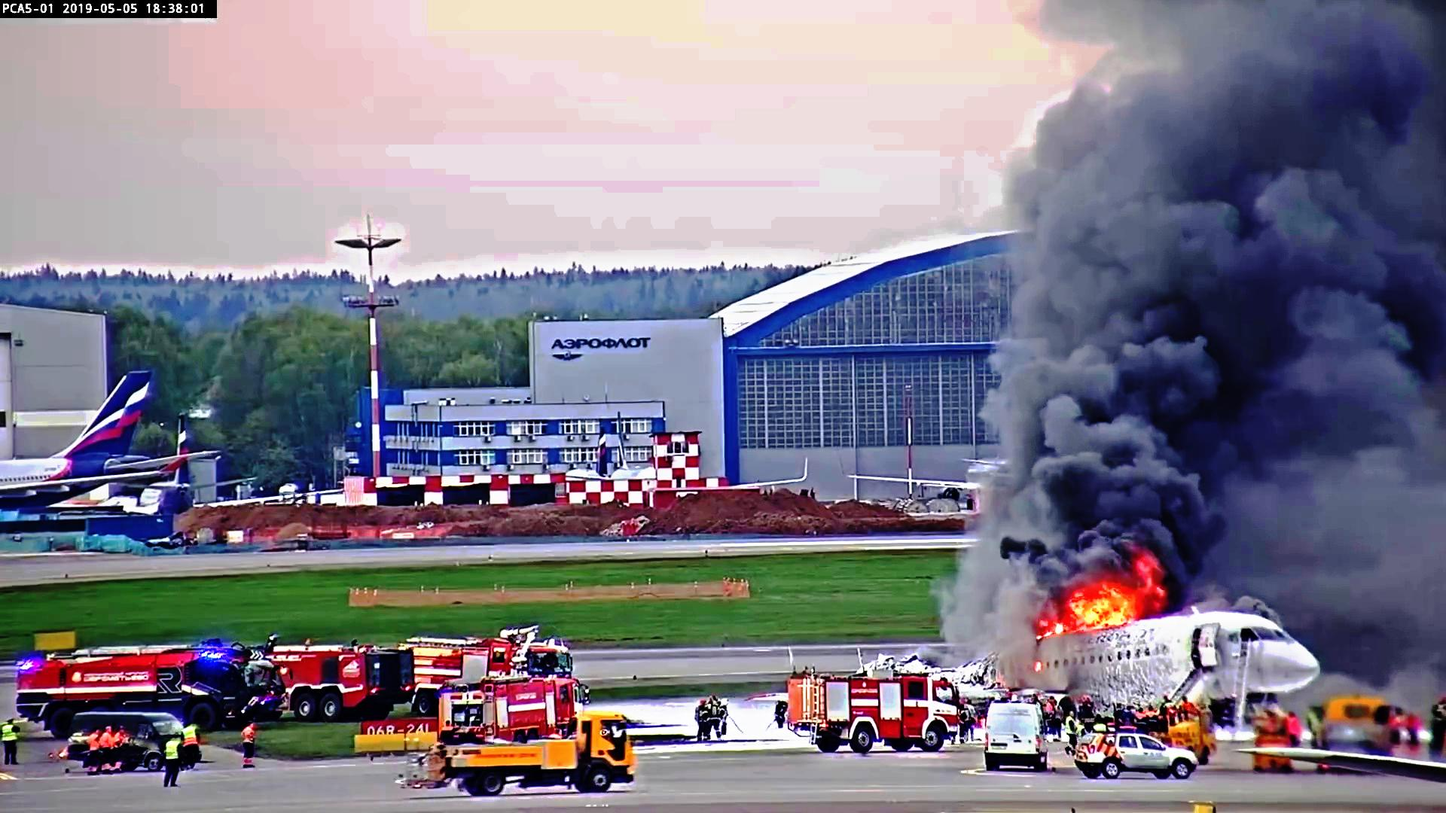fire: (1059, 580, 1169, 640)
smoke: (1019, 66, 1261, 547)
